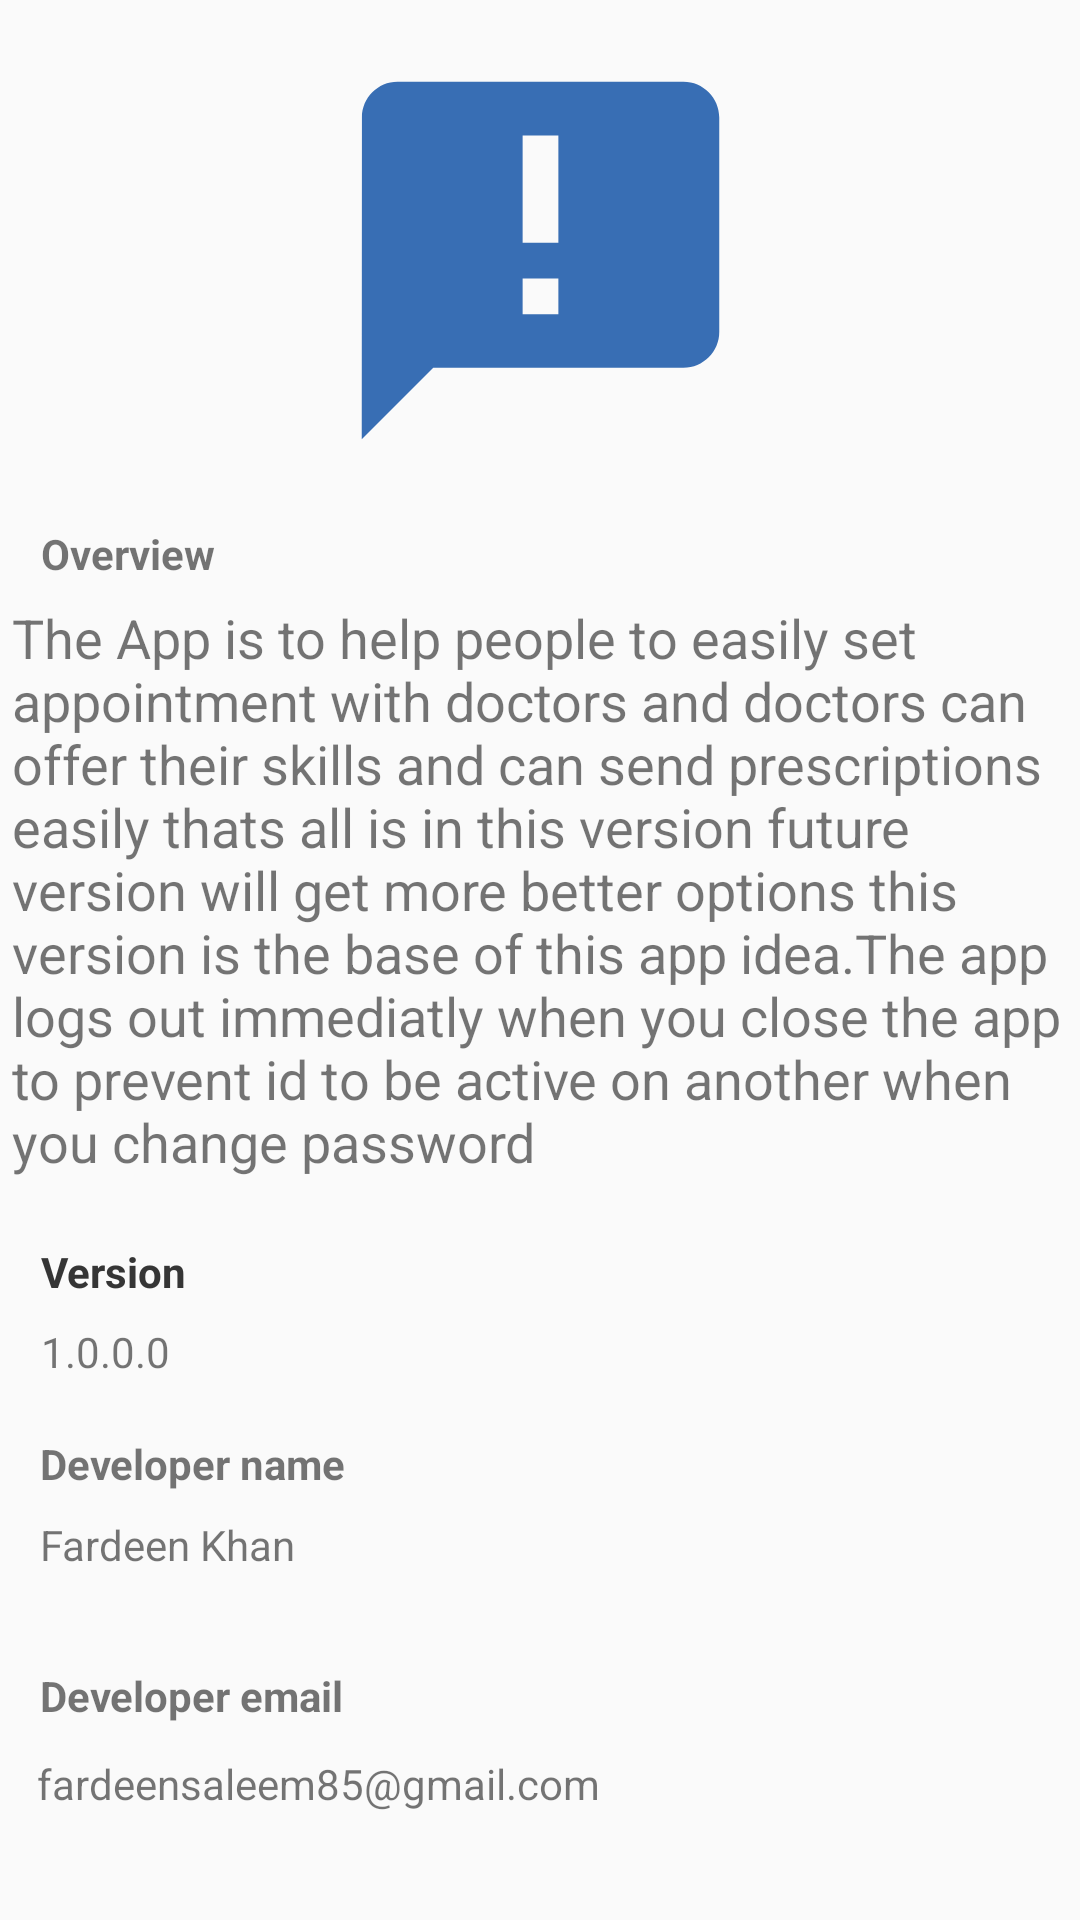

Icons on this 1080*1920 Android screen, each with the point to tap as (x,y):
announcement: (540,260)
